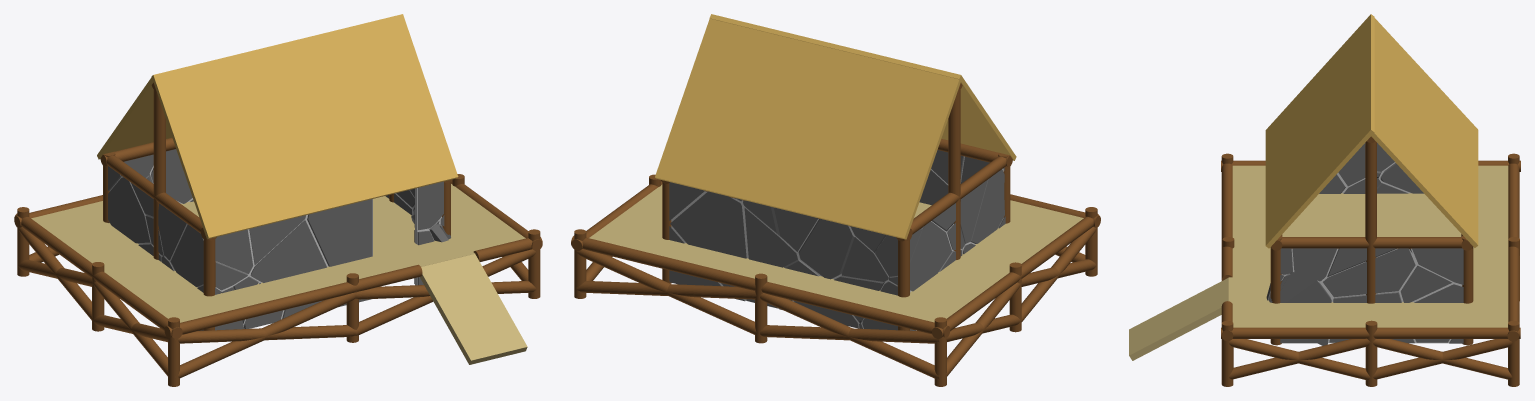
The model's file is GatherersHut.fbx.
3 renders of one model, left to right at view 1: azimuth 30°, elevation 25°; view 2: azimuth 150°, elevation 25°; view 3: azimuth 270°, elevation 25°, orthographic. The views are drawn at different scales.
Parts seen in each view (by area): view 1: Roof, Struts, Platformf, Stone Wall, Clay Wall; view 2: Roof, Struts, Stone Wall, Platformf, Clay Wall; view 3: Roof, Platformf, Struts, Stone Wall, Clay Wall.
Boxes of the visible parts, <box> form: Roof: <box>97,14,458,239</box>; Struts: <box>14,82,542,386</box>; Platformf: <box>31,184,527,364</box>; Stone Wall: <box>108,149,450,330</box>; Clay Wall: <box>109,165,441,328</box>; Roof: <box>655,14,1016,239</box>; Struts: <box>571,83,1100,386</box>; Stone Wall: <box>669,150,1005,330</box>; Platformf: <box>589,184,1083,322</box>; Clay Wall: <box>671,156,1003,328</box>; Roof: <box>1265,14,1478,248</box>; Platformf: <box>1129,165,1508,360</box>; Struts: <box>1221,136,1520,386</box>; Stone Wall: <box>1266,143,1463,345</box>; Clay Wall: <box>1281,162,1462,343</box>.
Bounding box in the file's own units: 214 × 134 × 205.
